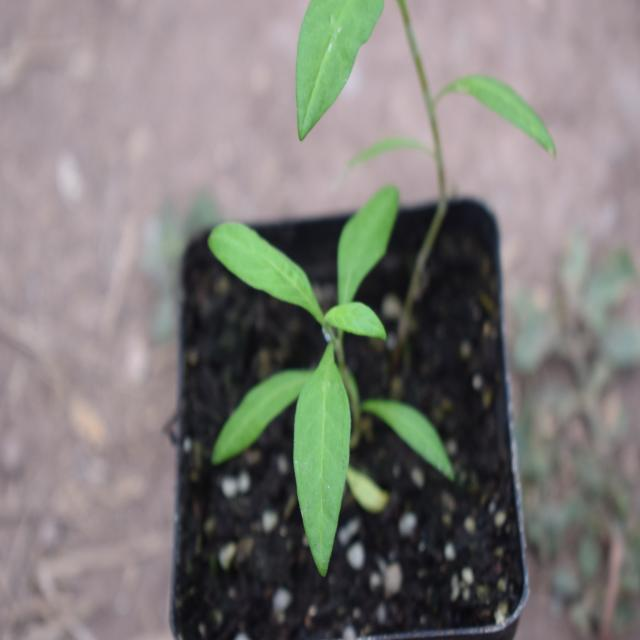white_smart_weed: (202, 184, 460, 554)
